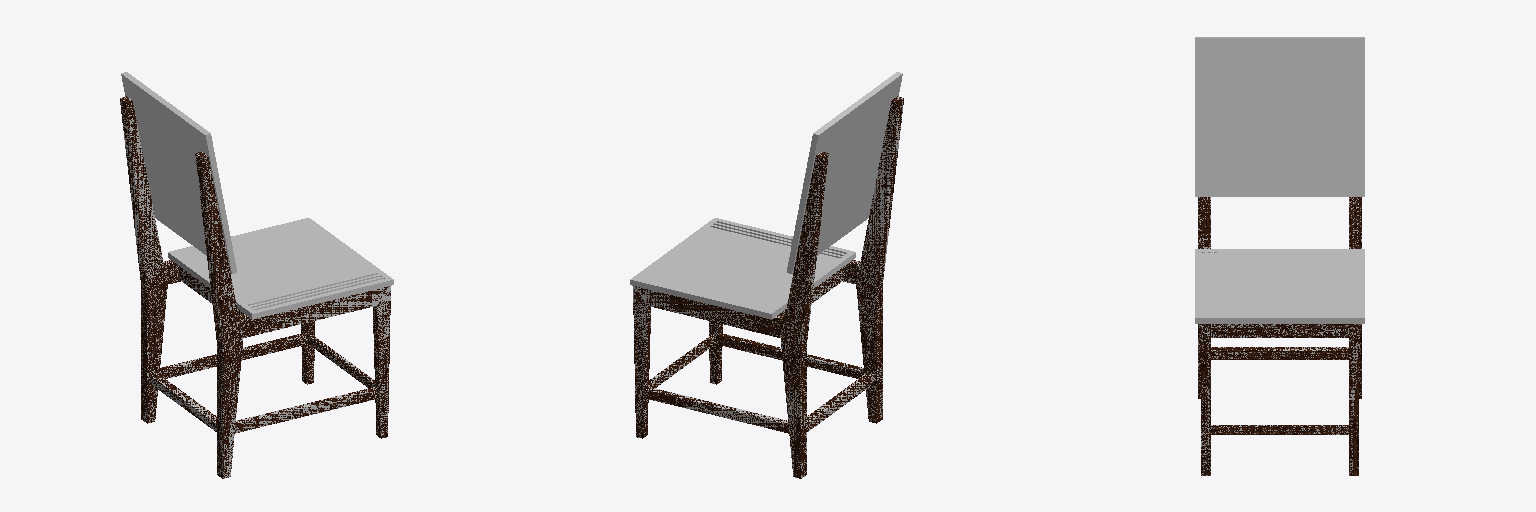
3 views of the same model, side by side, from view 1: azimuth 30°, elevation 25°; view 2: azimuth 150°, elevation 25°; view 3: azimuth 270°, elevation 25° (orthographic).
Parts seen in each view (by area): view 1: mesh1_mesh1-geometry, mesh2_mesh2-geometry, mesh3_mesh3-geometry; view 2: mesh1_mesh1-geometry, mesh2_mesh2-geometry, mesh3_mesh3-geometry; view 3: mesh3_mesh3-geometry, mesh2_mesh2-geometry, mesh1_mesh1-geometry.
Boxes of the visible parts, x1=… form: mesh1_mesh1-geometry: x1=120, y1=96, x2=390, y2=478; mesh2_mesh2-geometry: x1=168, y1=218, x2=393, y2=319; mesh3_mesh3-geometry: x1=121, y1=72, x2=236, y2=273; mesh1_mesh1-geometry: x1=633, y1=96, x2=903, y2=478; mesh2_mesh2-geometry: x1=630, y1=218, x2=855, y2=319; mesh3_mesh3-geometry: x1=787, y1=72, x2=902, y2=273; mesh3_mesh3-geometry: x1=1195, y1=37, x2=1364, y2=196; mesh2_mesh2-geometry: x1=1195, y1=249, x2=1364, y2=323; mesh1_mesh1-geometry: x1=1198, y1=197, x2=1361, y2=475.
Size of the model in its own units: 0.4633 by 0.8115 by 0.3561.
3 materials, 1 textured.